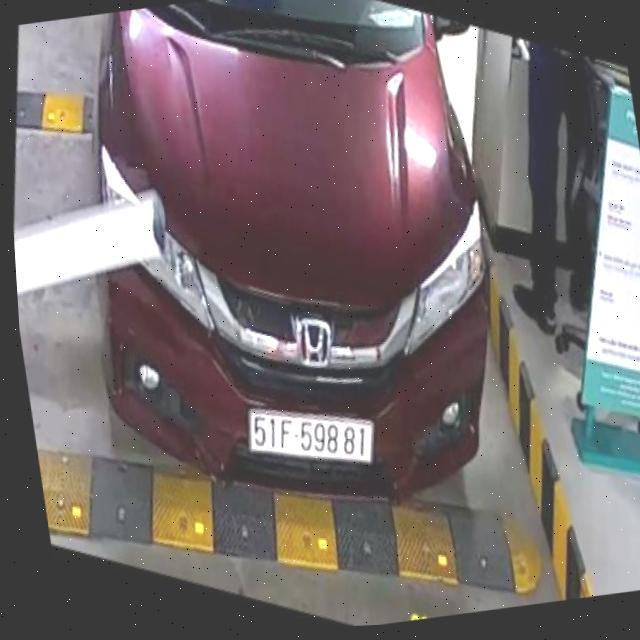car: (48, 0, 544, 544)
plate: (237, 392, 383, 482)
